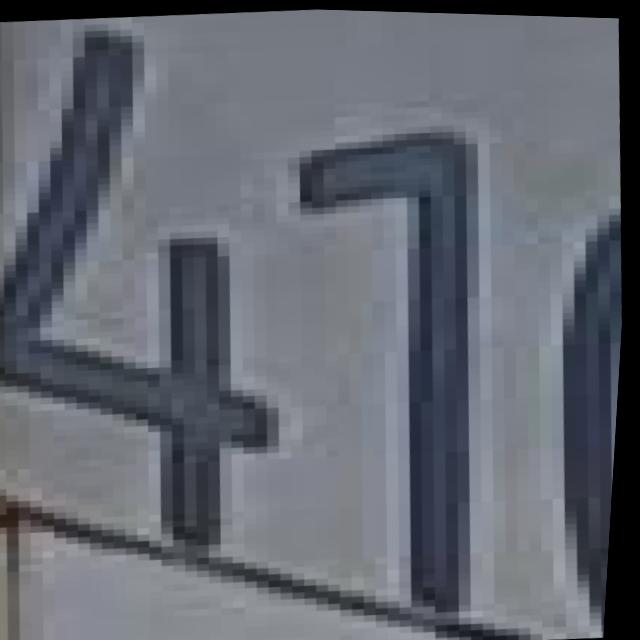character: (0, 1, 323, 569), (258, 109, 525, 633), (498, 186, 630, 640)
